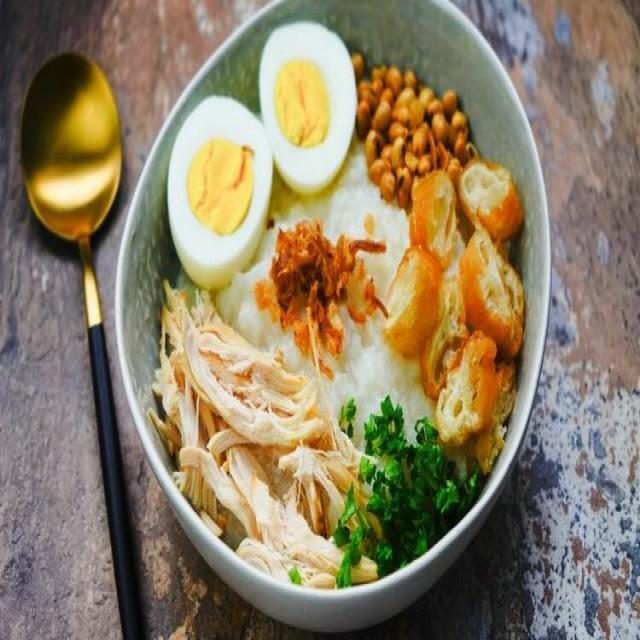bubur ayam: (153, 16, 528, 592)
mangkuk: (112, 3, 556, 627)
telur rebus: (166, 95, 274, 290)
